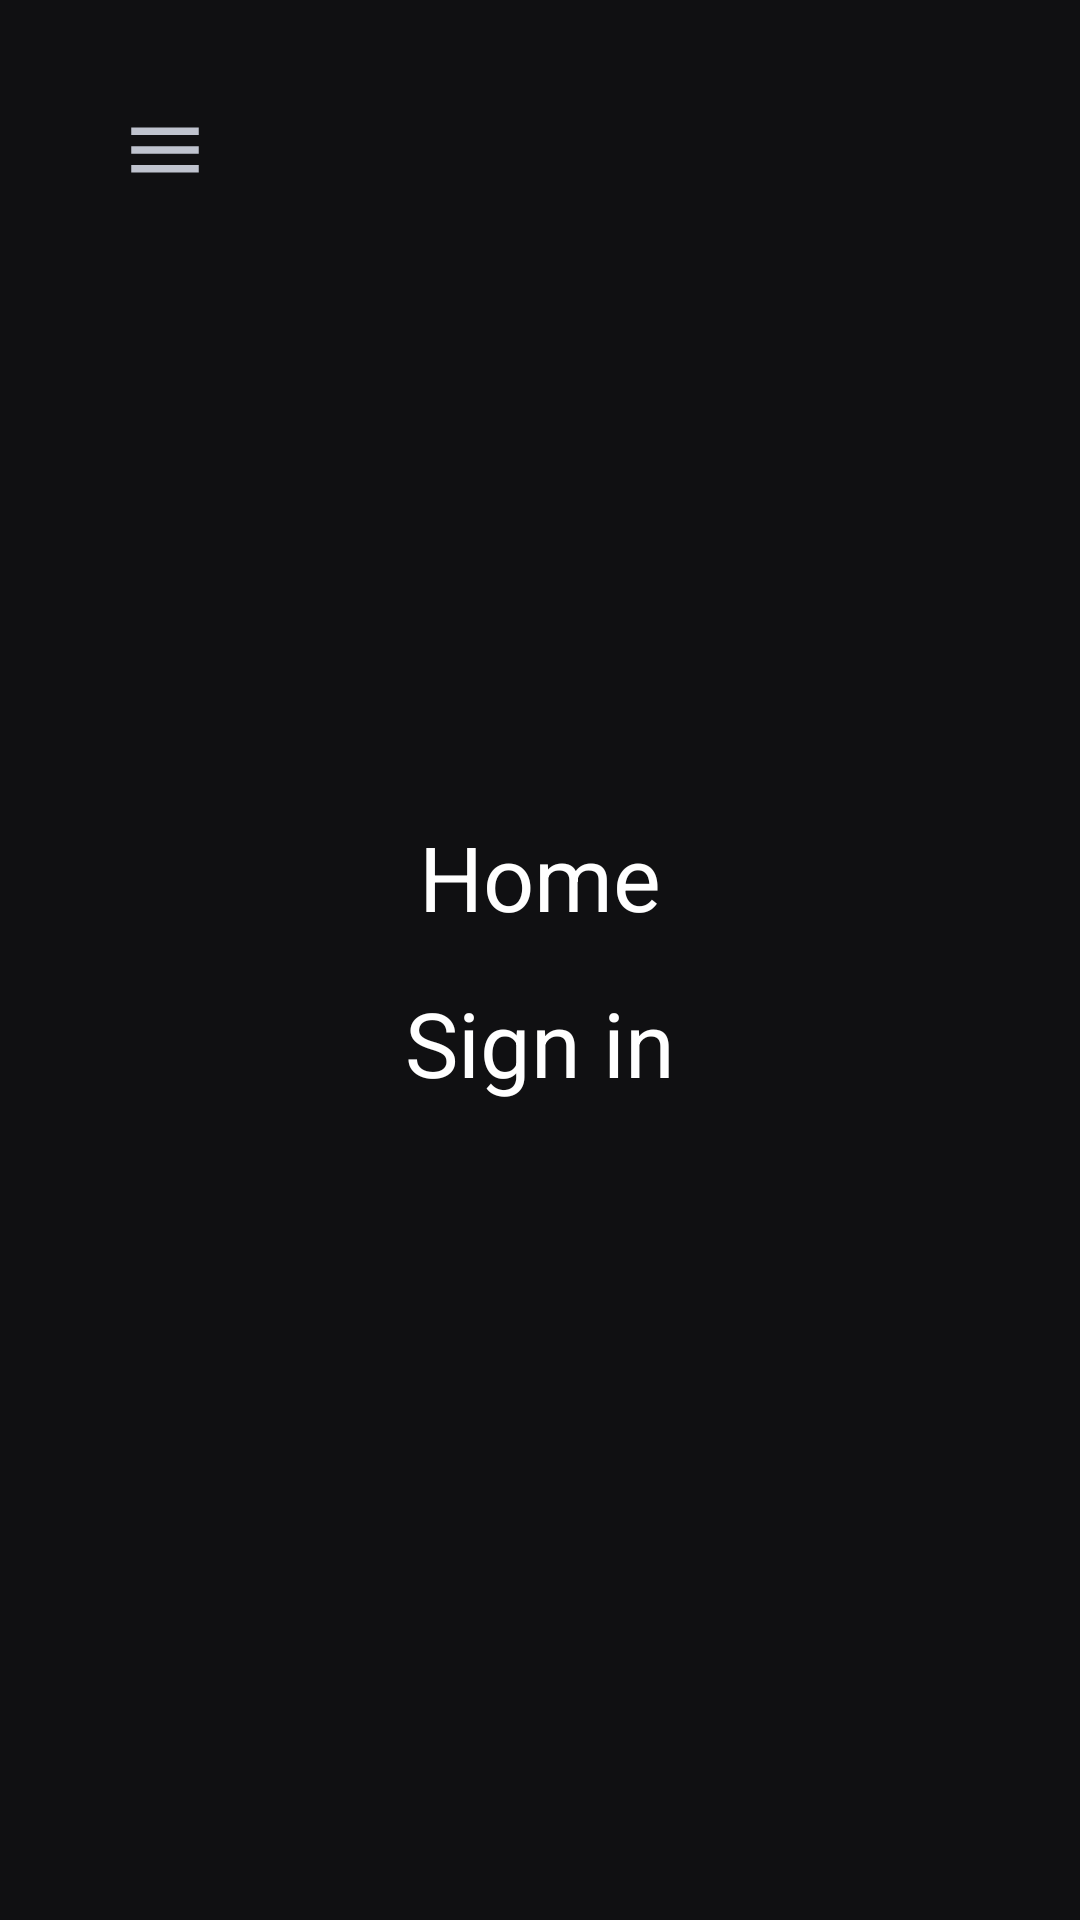

Where to tap for icons on this 1080 × 1920 app screen, as point (x, y):
menu: point (165, 150)
